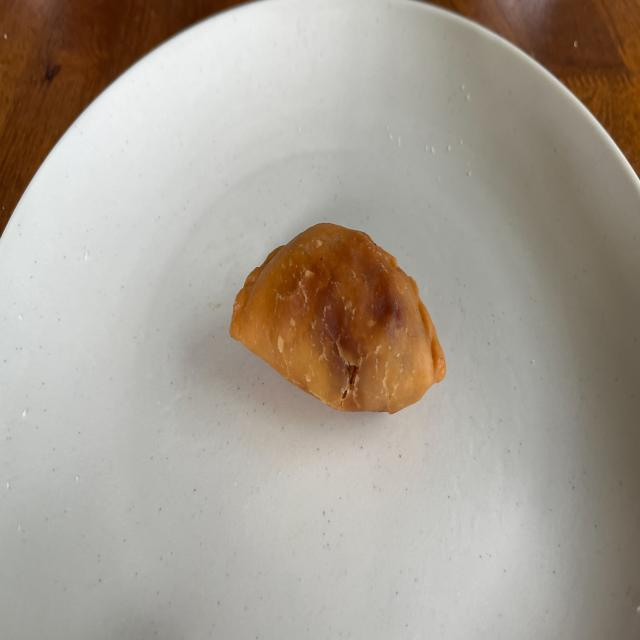karipap: (230, 222, 446, 413)
